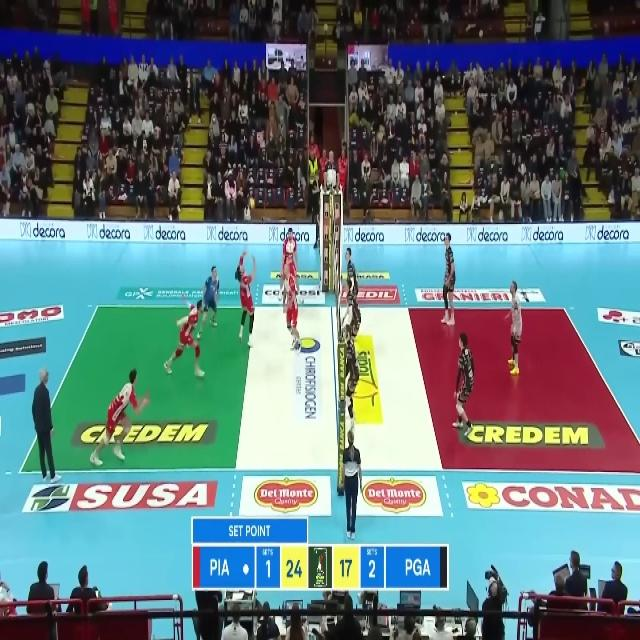volleyball court: (19, 305, 638, 473)
